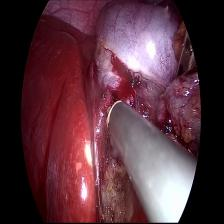Grasper: (172, 29, 198, 81)
Hook: (100, 96, 126, 134)
